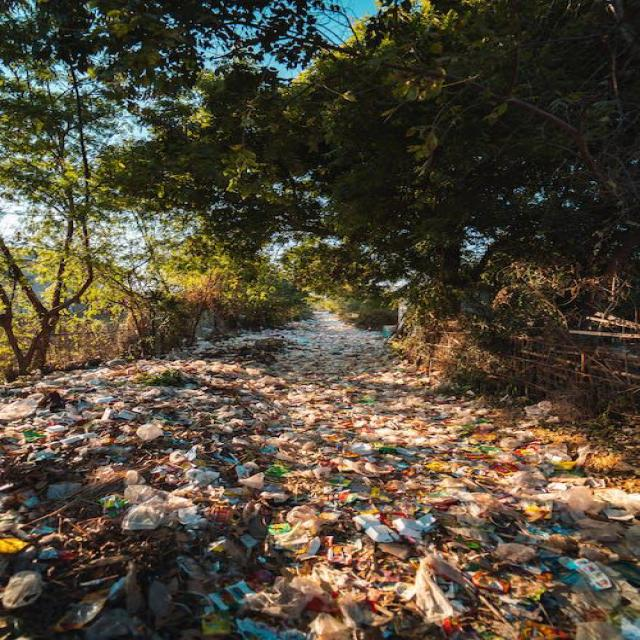trash: (26, 398, 560, 632)
